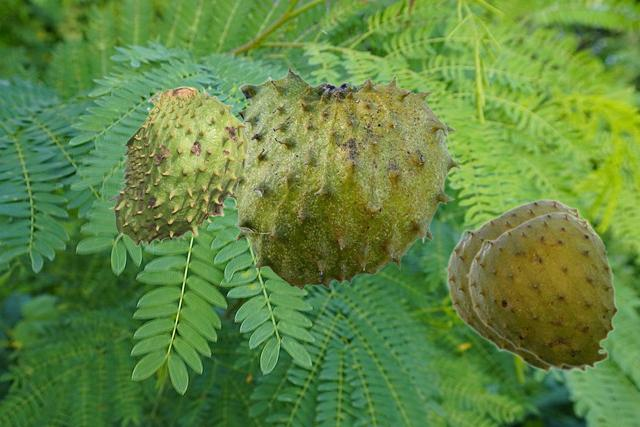guyabano: (228, 65, 460, 289), (443, 198, 596, 375), (465, 211, 618, 371), (107, 86, 249, 246)
